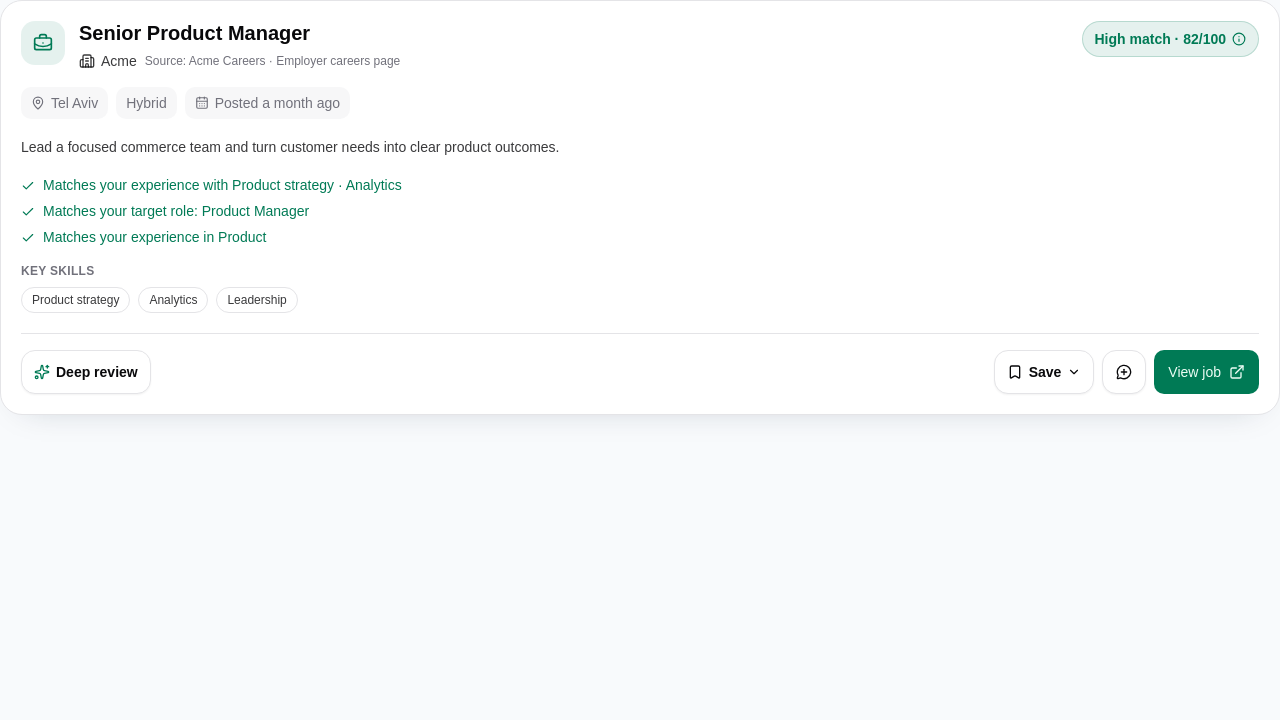
job result cards › adds a comment to an untracked suggestion without assigning a status
This screenshot has width=1280, height=720.
Click the button named "Add a comment".
click(1124, 372)  # box [1102,350,1146,394]
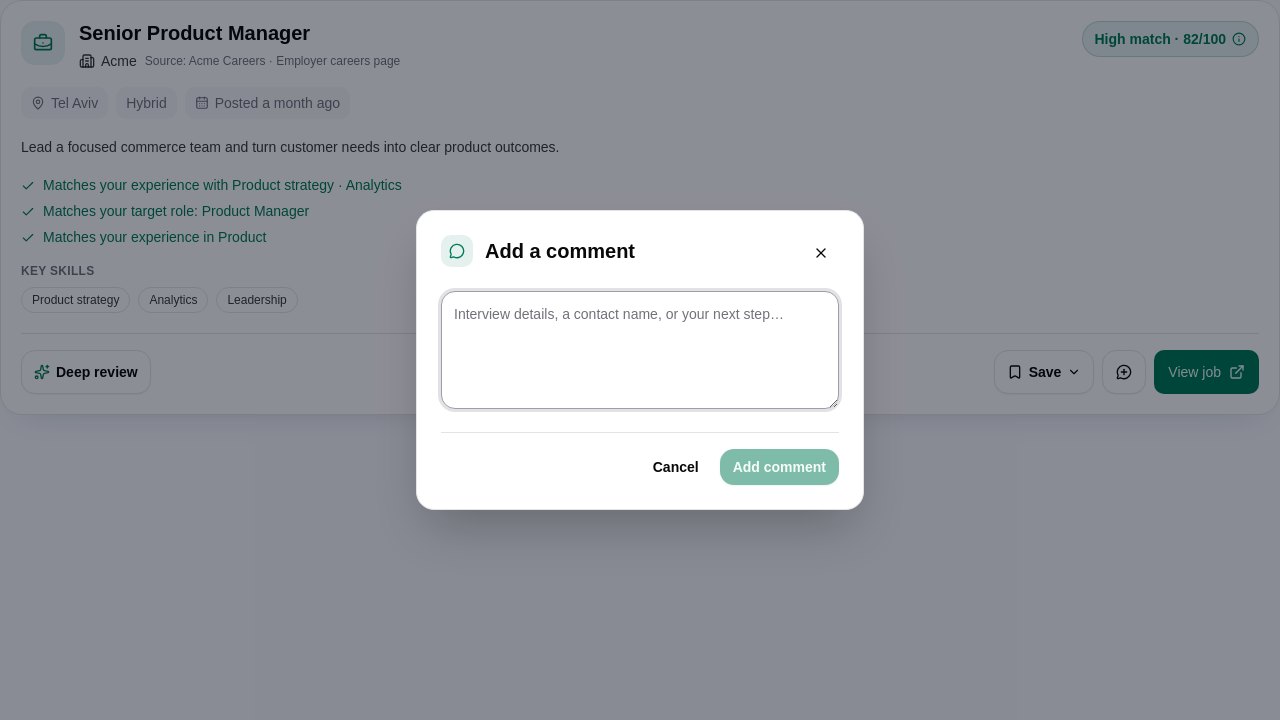
Type "Ask whether the team works remotely." into the text box named "Comment".
click(640, 350); type("Ask whether the team works remotely.")  # box [441,291,839,409]
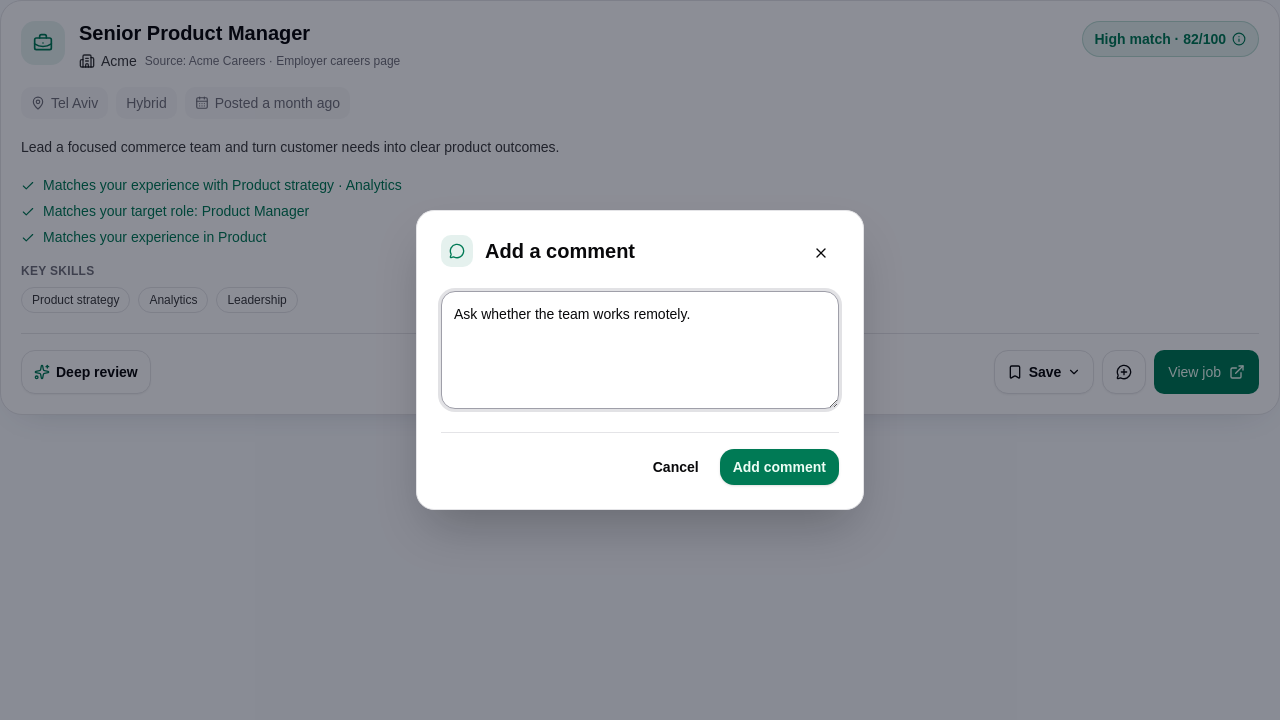
Click the button "Add comment".
click(779, 467)  # box [720,449,839,485]
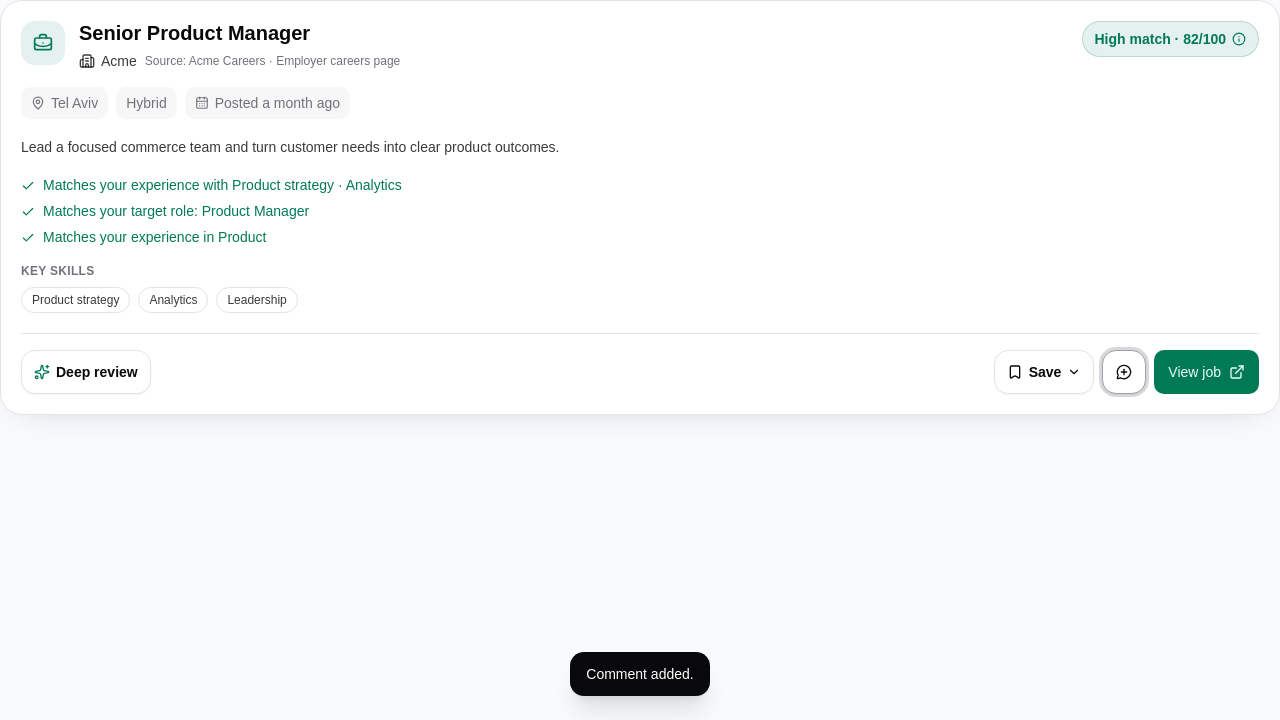
Result: the message reads "Comment added." at [586,666,694,682]
